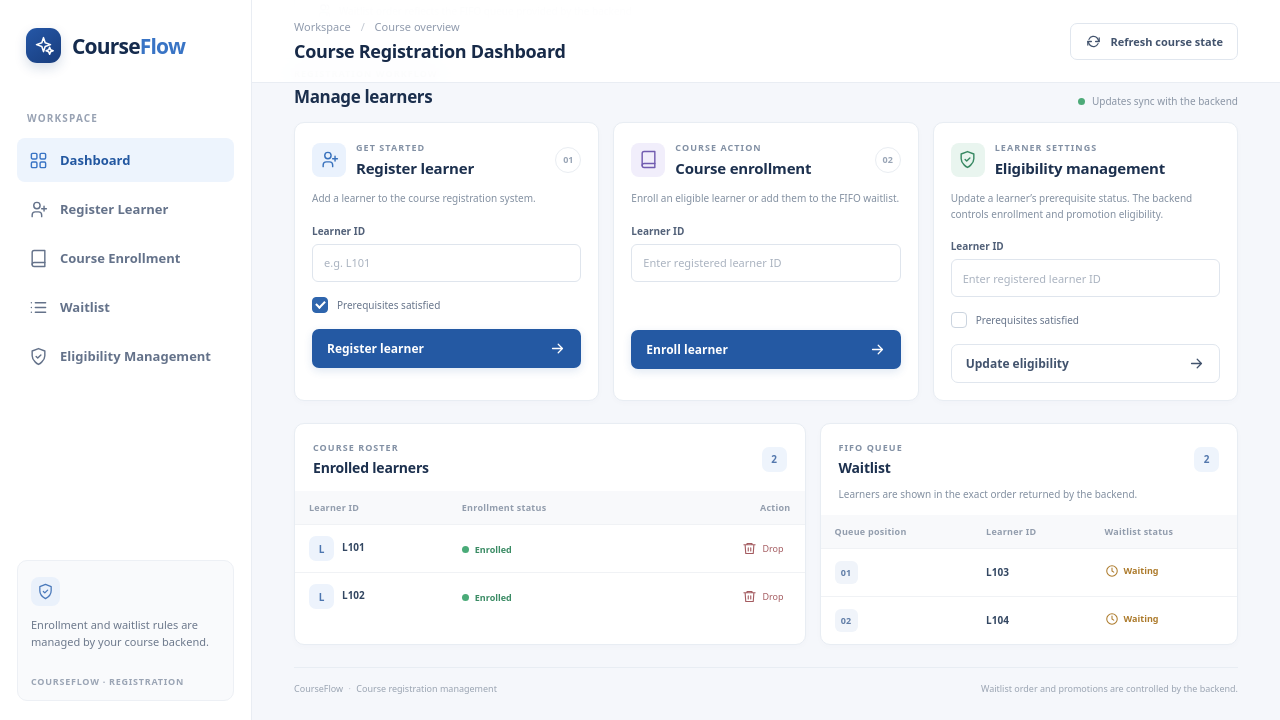
it: CourseFlow dashboard › handles the backend repeated-drop status as an error
This screenshot has width=1280, height=720.
(page scrolled)
Expected: the text "L101" is shown, [342,540,365,554]
Click the button "Drop" in the row of "L101" at (763,548), box [735,536,790,561]
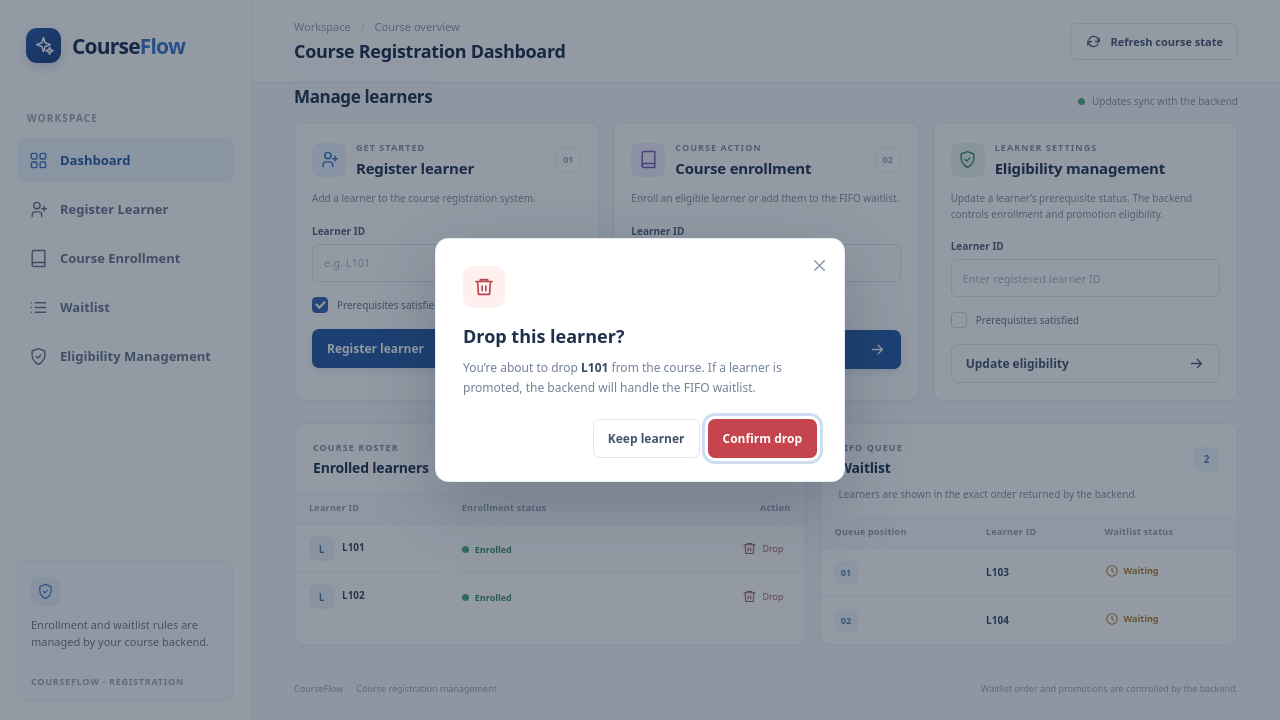
Click the button "Confirm drop" at (762,439), box [708,419,817,458]
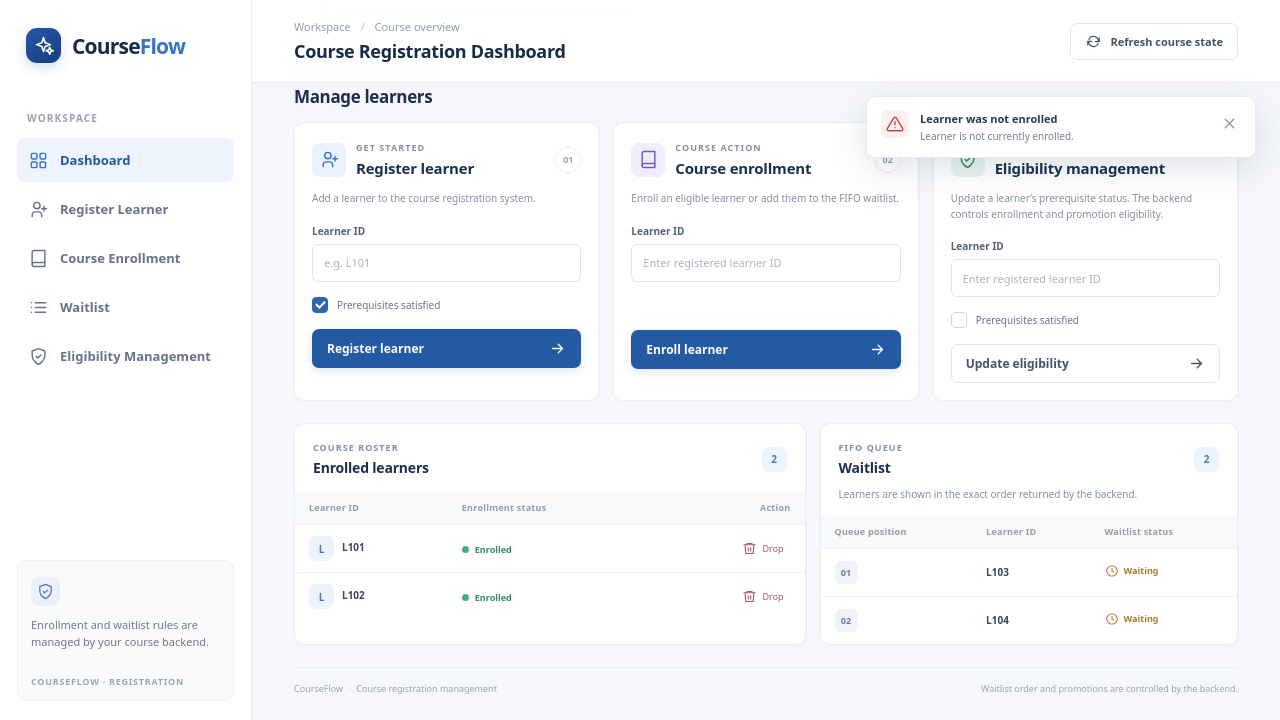
Result: the text "Learner was not enrolled" is shown at [920,111,1058,126]
Result: the text "Learner is not currently enrolled." is shown at [920,129,1074,143]
